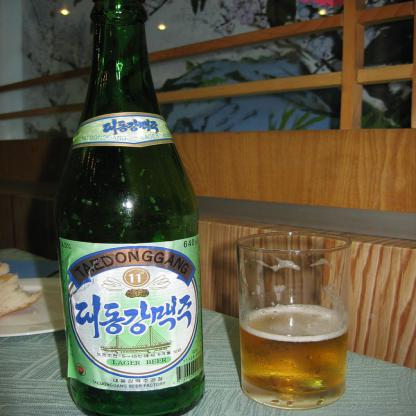drinking: (57, 0, 207, 415), (236, 232, 352, 410)
